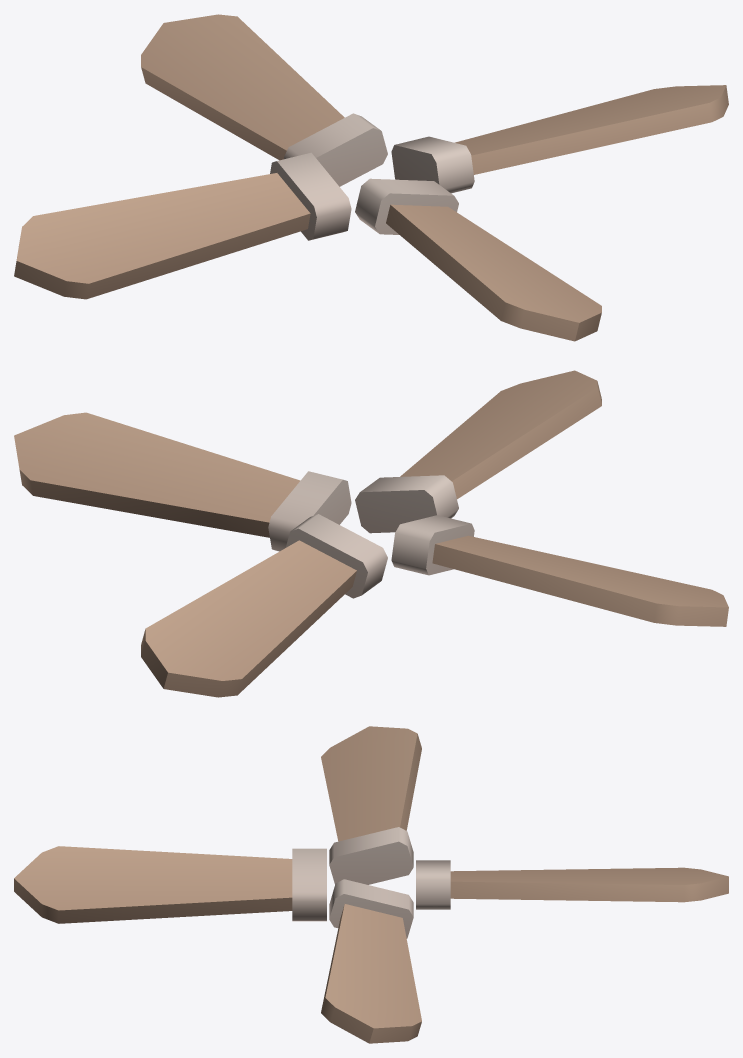
The model's file is (%no-merge) (%animation-rotate-y) 1.glb.
The picture shows the model from 3 angles, top to bottom: view 1: azimuth 30°, elevation 25°; view 2: azimuth 150°, elevation 25°; view 3: azimuth 270°, elevation 25°; orthographic projection. The views are drawn at different scales.
Parts seen in each view (by area): view 1: (%no-merge) (%animation-rotate-y) 1; view 2: (%no-merge) (%animation-rotate-y) 1; view 3: (%no-merge) (%animation-rotate-y) 1.
Boxes of the visible parts, left/top/right/bottom form: (%no-merge) (%animation-rotate-y) 1: left=14, top=14, right=728, bottom=341; (%no-merge) (%animation-rotate-y) 1: left=14, top=370, right=728, bottom=697; (%no-merge) (%animation-rotate-y) 1: left=14, top=726, right=728, bottom=1043.
Size of the model in its own units: 1.03 by 0.0781 by 1.03.
